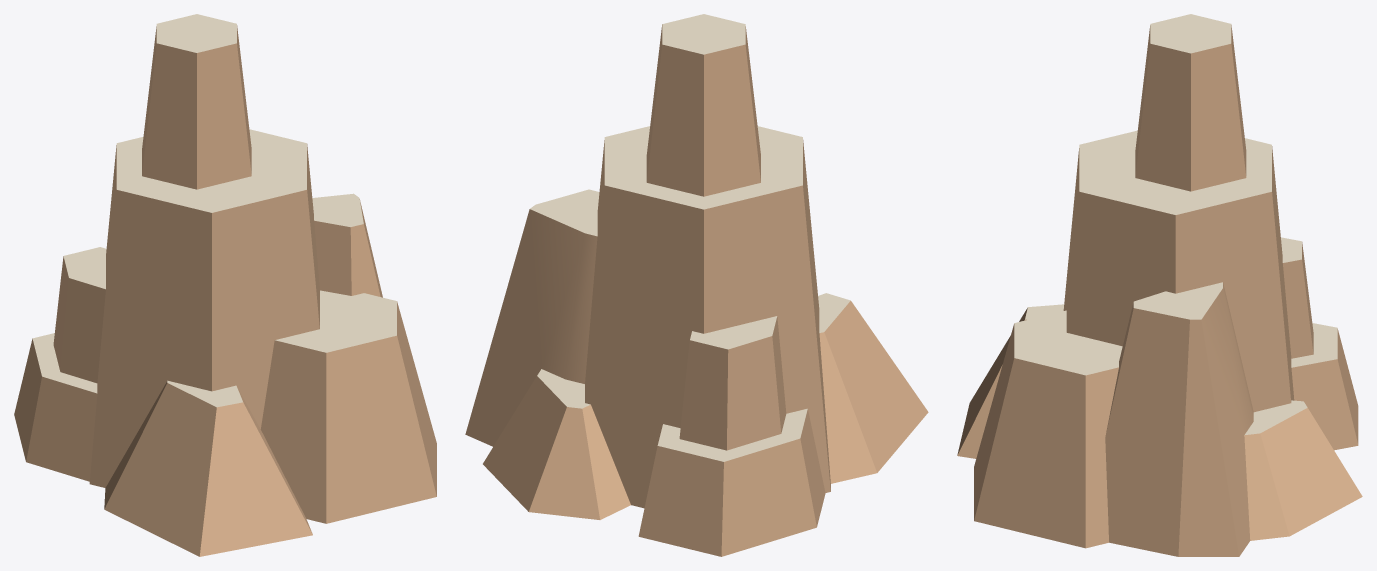
Rendered from rockform.gltf.
3 views of the same model, side by side, from view 1: azimuth 30°, elevation 25°; view 2: azimuth 150°, elevation 25°; view 3: azimuth 270°, elevation 25° (orthographic). The views are drawn at different scales.
Visible parts, largest first — view 1: formation_rock; view 2: formation_rock; view 3: formation_rock.
Boxes of the visible parts, bbox=[...] form: formation_rock: bbox=[14, 14, 436, 556]; formation_rock: bbox=[465, 14, 928, 556]; formation_rock: bbox=[957, 14, 1362, 556].
Bounding box in the file's own units: 10.6 × 12.25 × 10.67.
